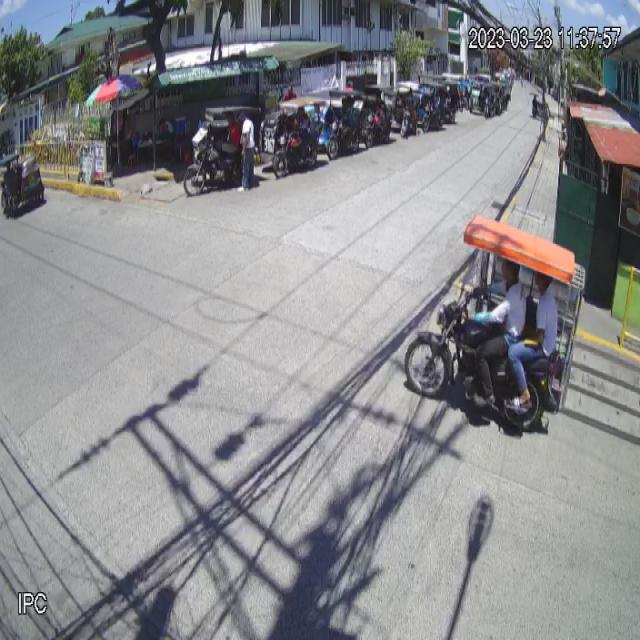Tricycle: (404, 214, 588, 430)
